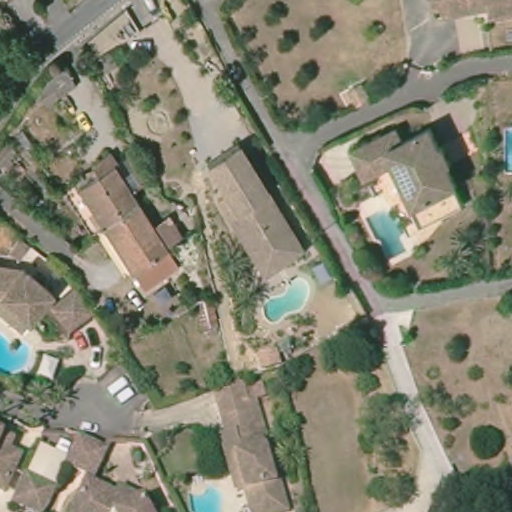pool: (362, 205, 410, 263), (257, 277, 311, 325), (1, 321, 31, 377), (181, 484, 229, 512), (503, 124, 512, 177)
